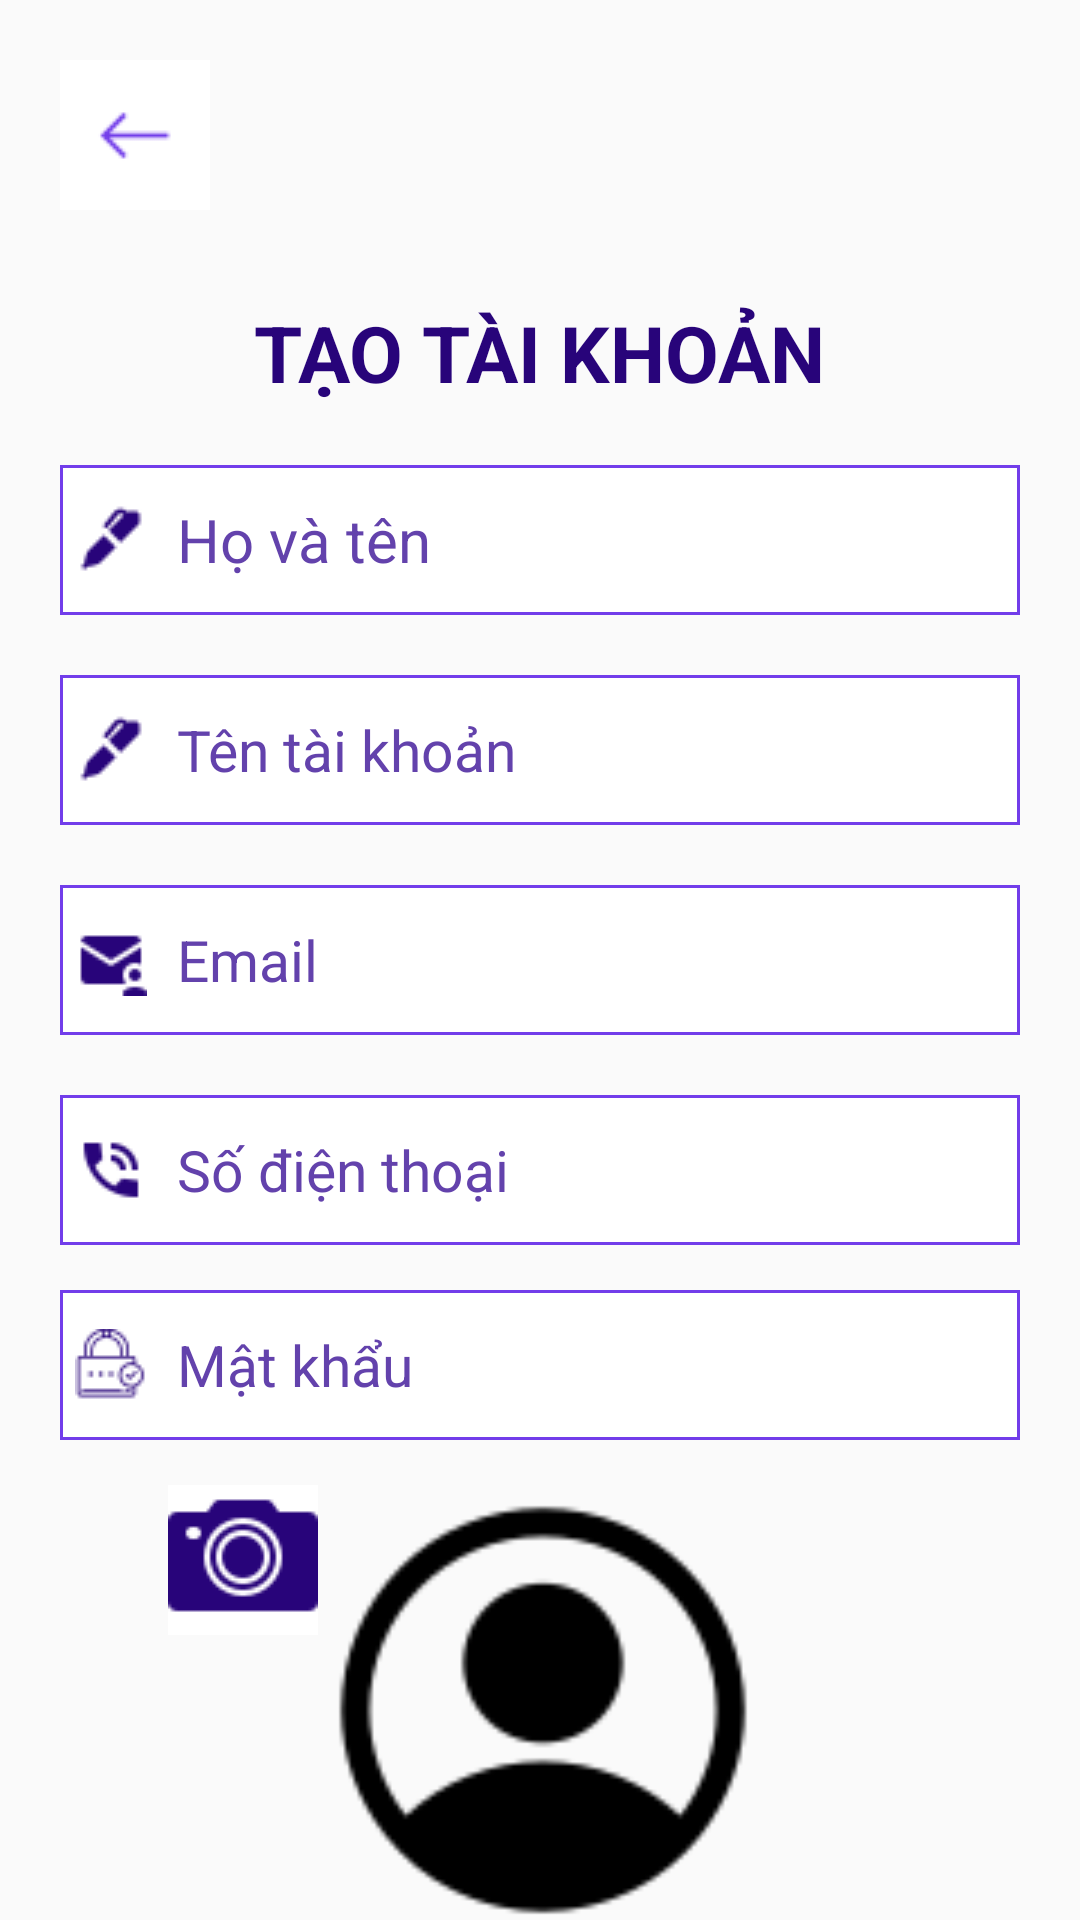

Locate icon controls on the screen. Image size 1080 x 1920, boxes as (x1, y1, x2, y2).
camera: (168, 1499, 318, 1612)
